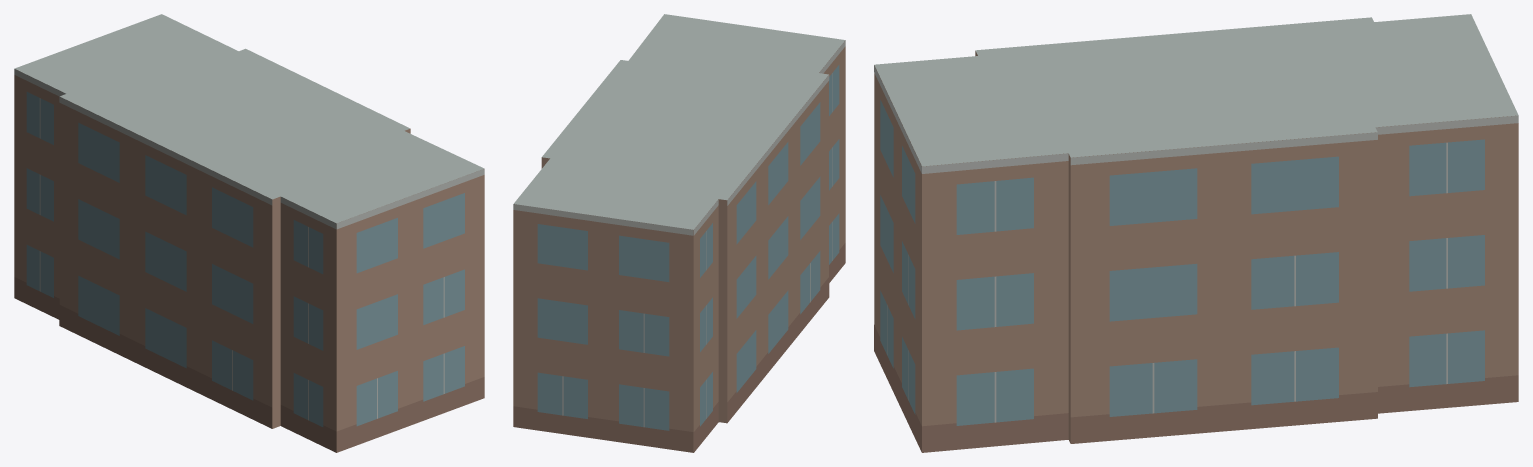
Rendered from survey-upis-32696818.glb.
3 renders of one model, left to right at view 1: azimuth 30°, elevation 25°; view 2: azimuth 150°, elevation 25°; view 3: azimuth 270°, elevation 25°, orthographic. The views are drawn at different scales.
Visible parts, largest first — view 1: survey-upis-32696818.tmp; view 2: survey-upis-32696818.tmp; view 3: survey-upis-32696818.tmp.
Part boxes in pixels (x1,y1,x2,y2): survey-upis-32696818.tmp: (14, 14, 484, 452); survey-upis-32696818.tmp: (513, 14, 845, 452); survey-upis-32696818.tmp: (874, 14, 1518, 452).
Size of the model in its own units: 10.46 by 9.15 by 18.67.
